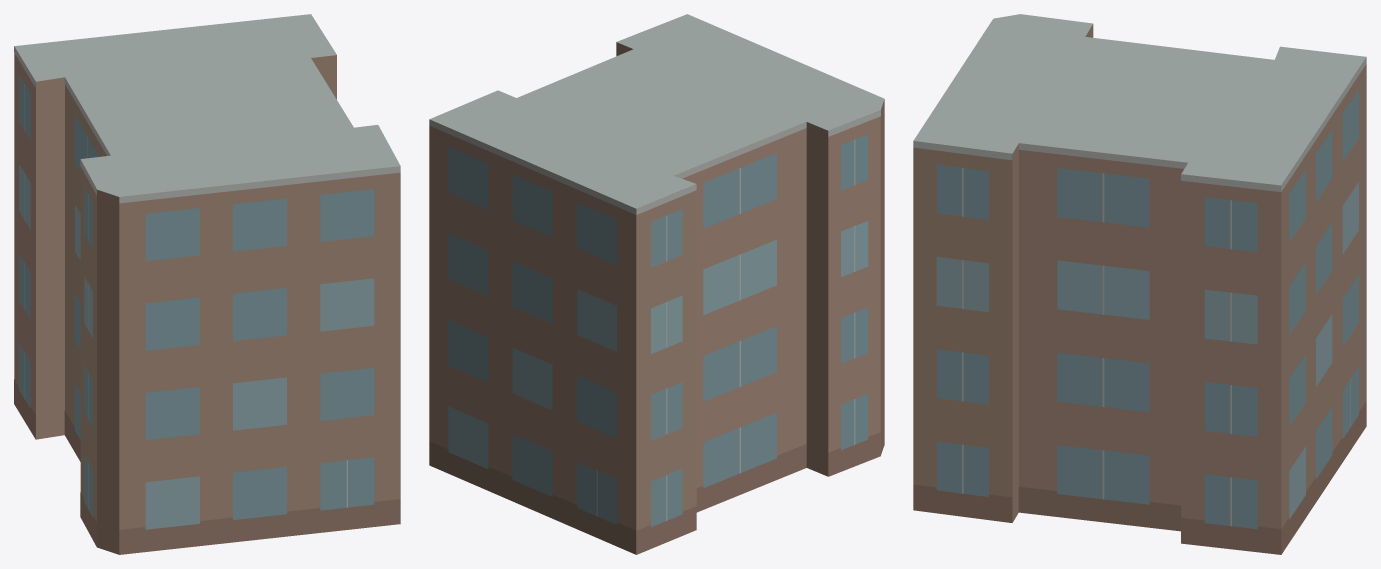
The model's file is survey-upis-32905159.glb.
3 renders of one model, left to right at view 1: azimuth 30°, elevation 25°; view 2: azimuth 150°, elevation 25°; view 3: azimuth 270°, elevation 25°, orthographic. The views are drawn at different scales.
Parts seen in each view (by area): view 1: survey-upis-32905159.tmp; view 2: survey-upis-32905159.tmp; view 3: survey-upis-32905159.tmp.
Boxes of the visible parts, <box> form: survey-upis-32905159.tmp: <box>14,14,400,554</box>; survey-upis-32905159.tmp: <box>429,14,884,554</box>; survey-upis-32905159.tmp: <box>913,14,1366,554</box>.
Bounding box in the file's own units: 13.5 × 13.55 × 15.08.
